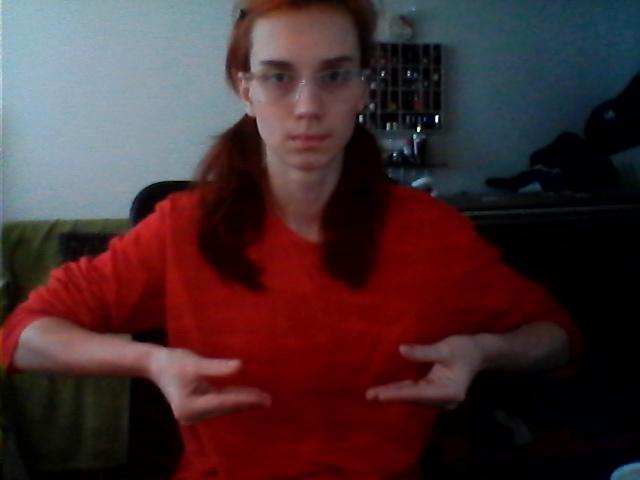drzat: (151, 330, 478, 424)
